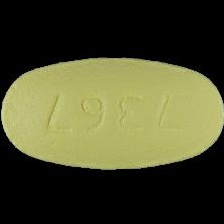66116-450: (0, 0, 224, 224)
